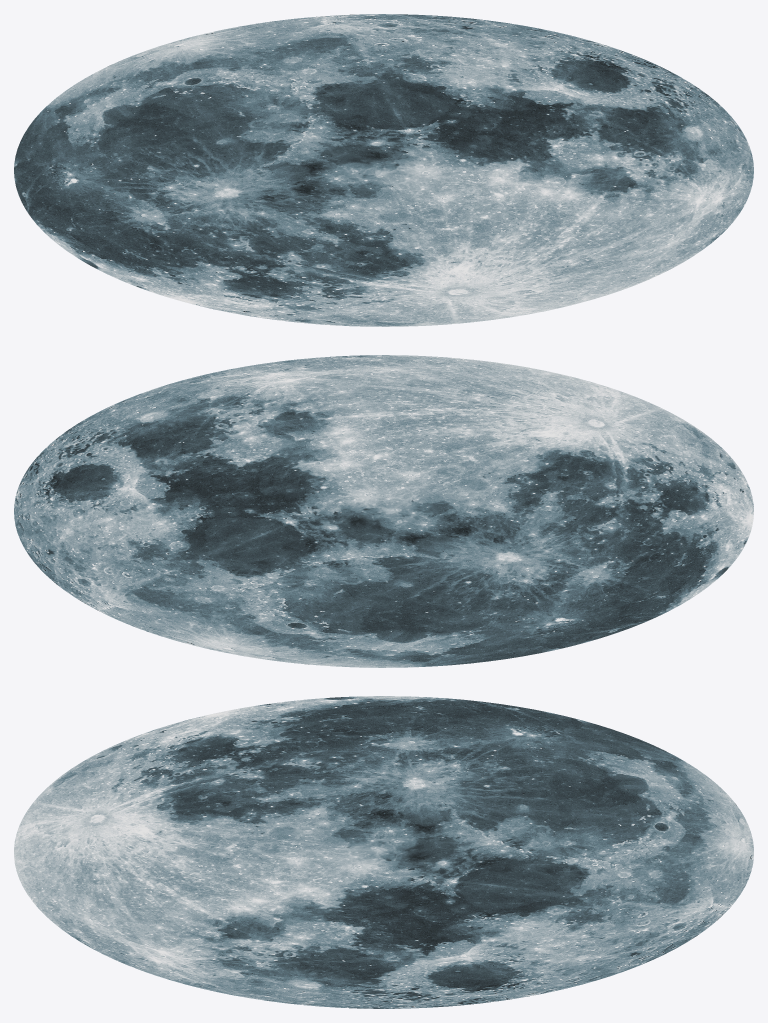
The model's file is SM_MOON.fbx.
3 renders of one model, top to bottom at view 1: azimuth 30°, elevation 25°; view 2: azimuth 150°, elevation 25°; view 3: azimuth 270°, elevation 25°, orthographic.
Parts seen in each view (by area): view 1: pDisc1; view 2: pDisc1; view 3: pDisc1.
Part boxes in pixels (x1,y1,x2,y2): pDisc1: [14, 14, 753, 326]; pDisc1: [14, 355, 753, 667]; pDisc1: [14, 696, 753, 1008].
Size of the model in its own units: 2 by 0 by 2.
